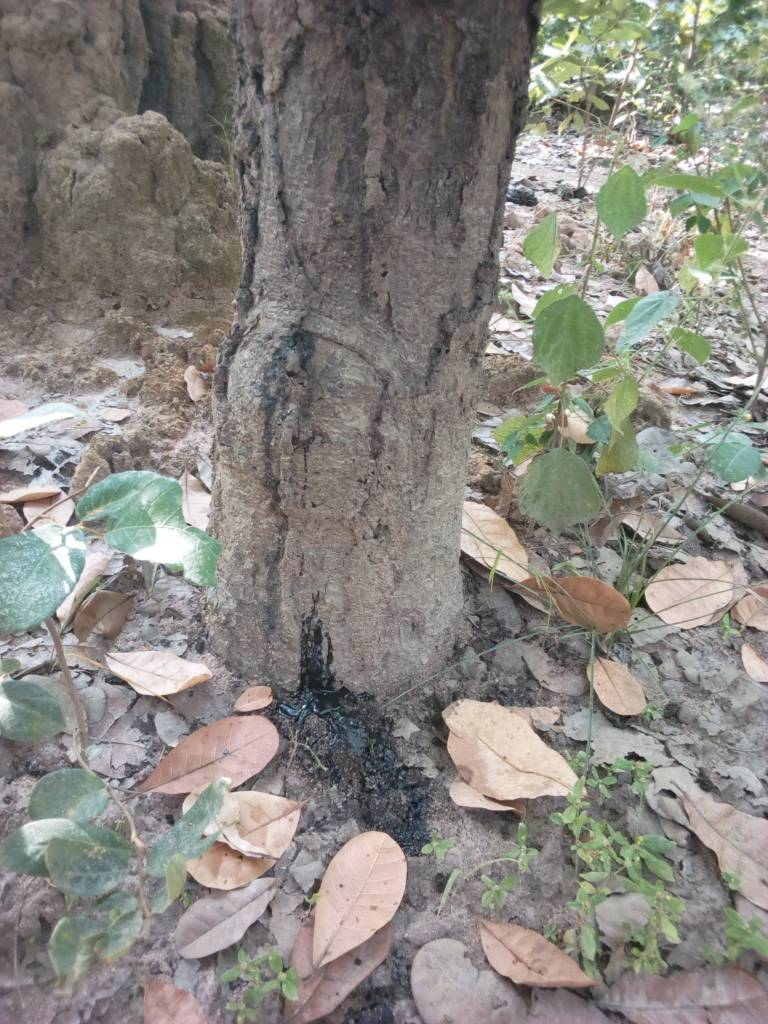Virose: (5, 5, 221, 356)
